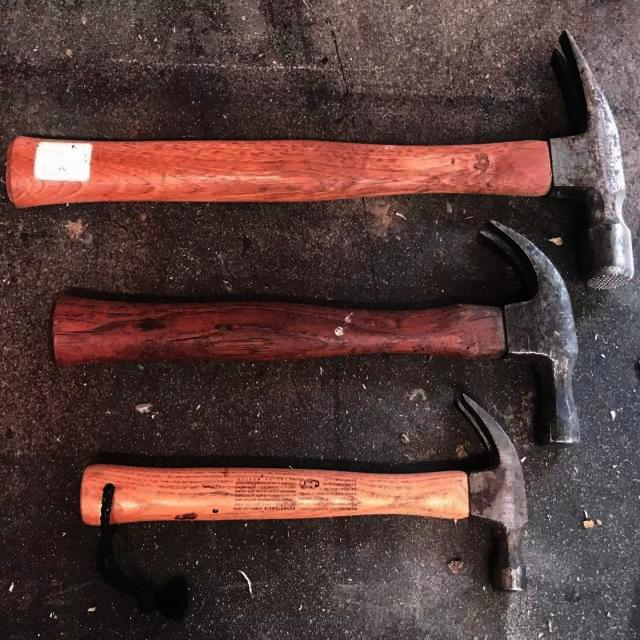hammer: (0, 22, 638, 299), (48, 216, 604, 448), (73, 388, 533, 604)
